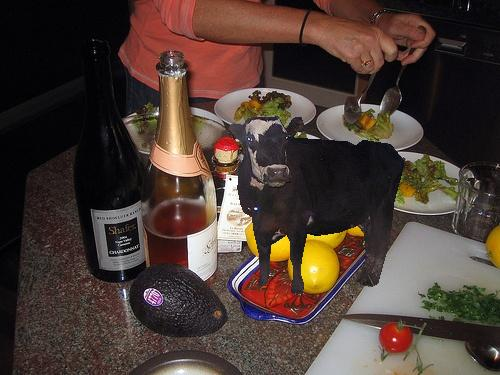tampered: (230, 117, 404, 294)
